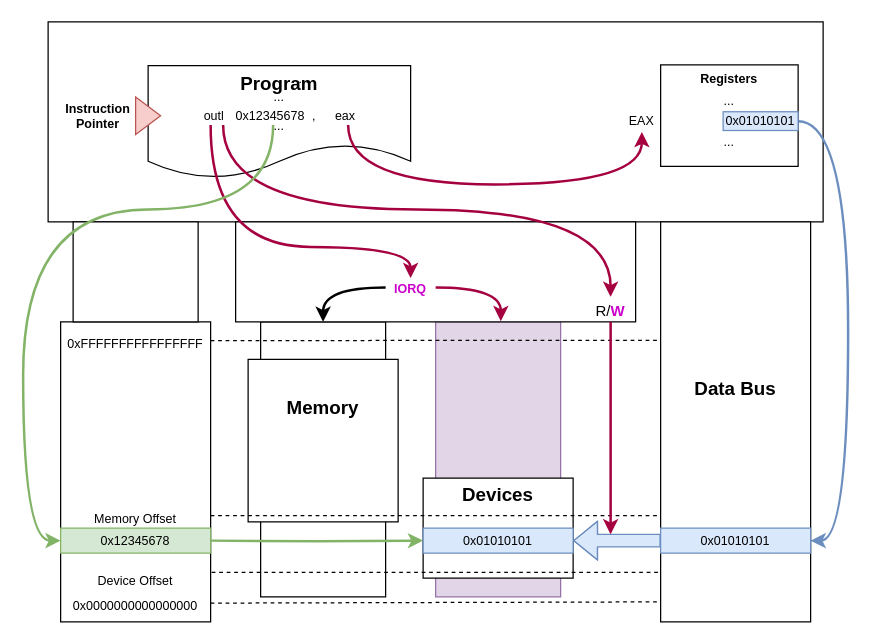
The diagram is 870 pixels wide and 644 high, and some of its shapes have lost their labels. The shapes that lost their labels are listed below. From the top down, each one's box as (x1, y1, x2, y2) in pixels, then its label:
(47, 21, 823, 222): CPU
(72, 221, 198, 322): Address Bus
(234, 221, 636, 322): Control Bus
(59, 321, 211, 622): Address Space
